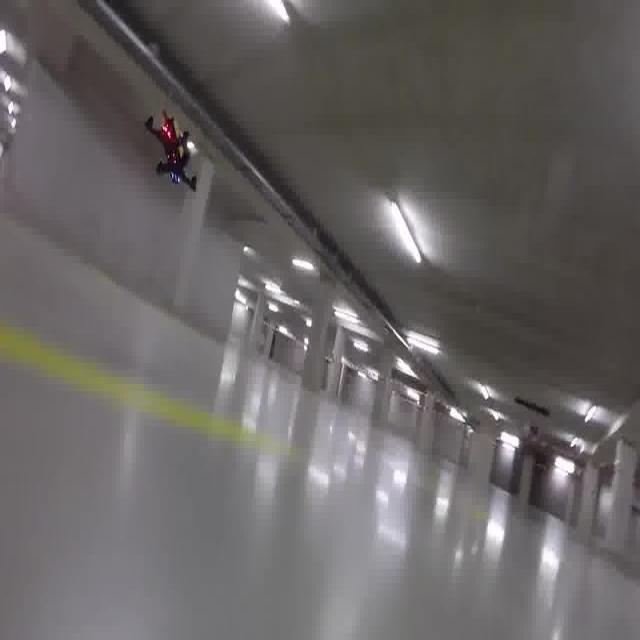drone: (140, 103, 201, 197)
